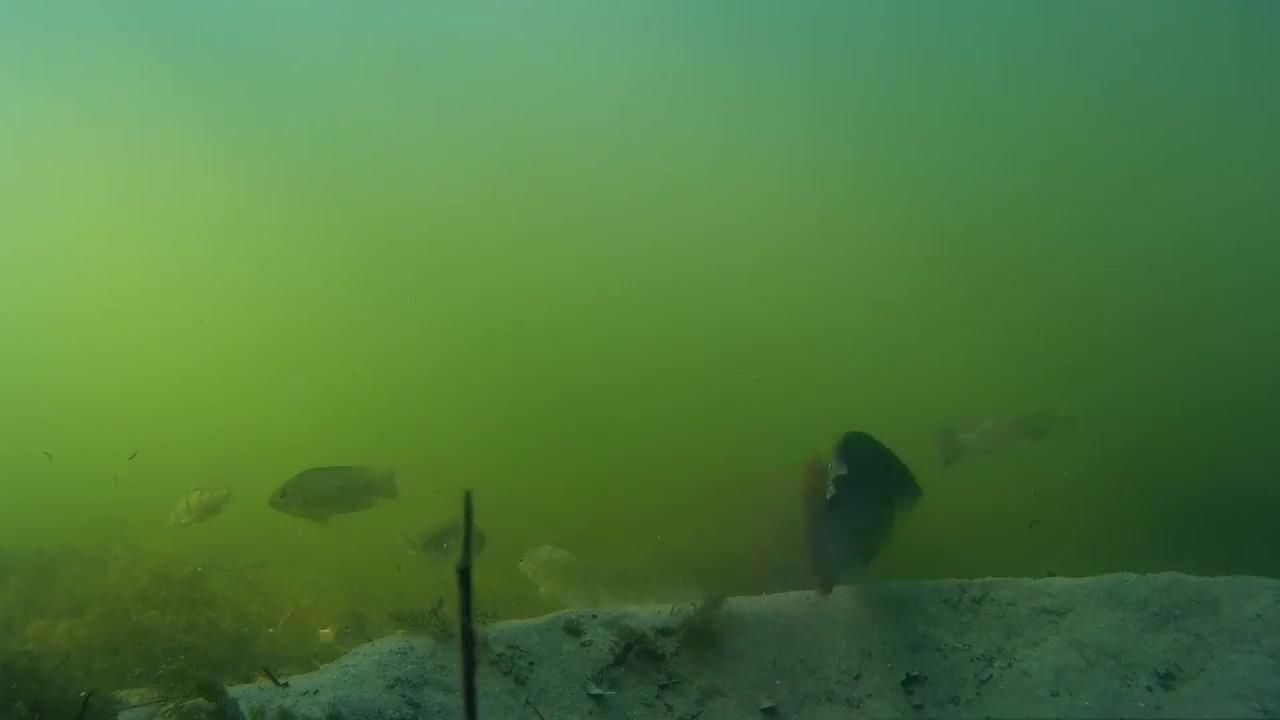Tilapia: (782, 424, 933, 604), (260, 450, 411, 538), (936, 402, 1067, 472), (517, 538, 614, 616), (169, 480, 241, 546), (385, 594, 466, 646)
